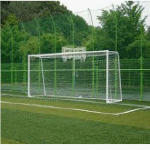goals: (26, 49, 123, 104)
